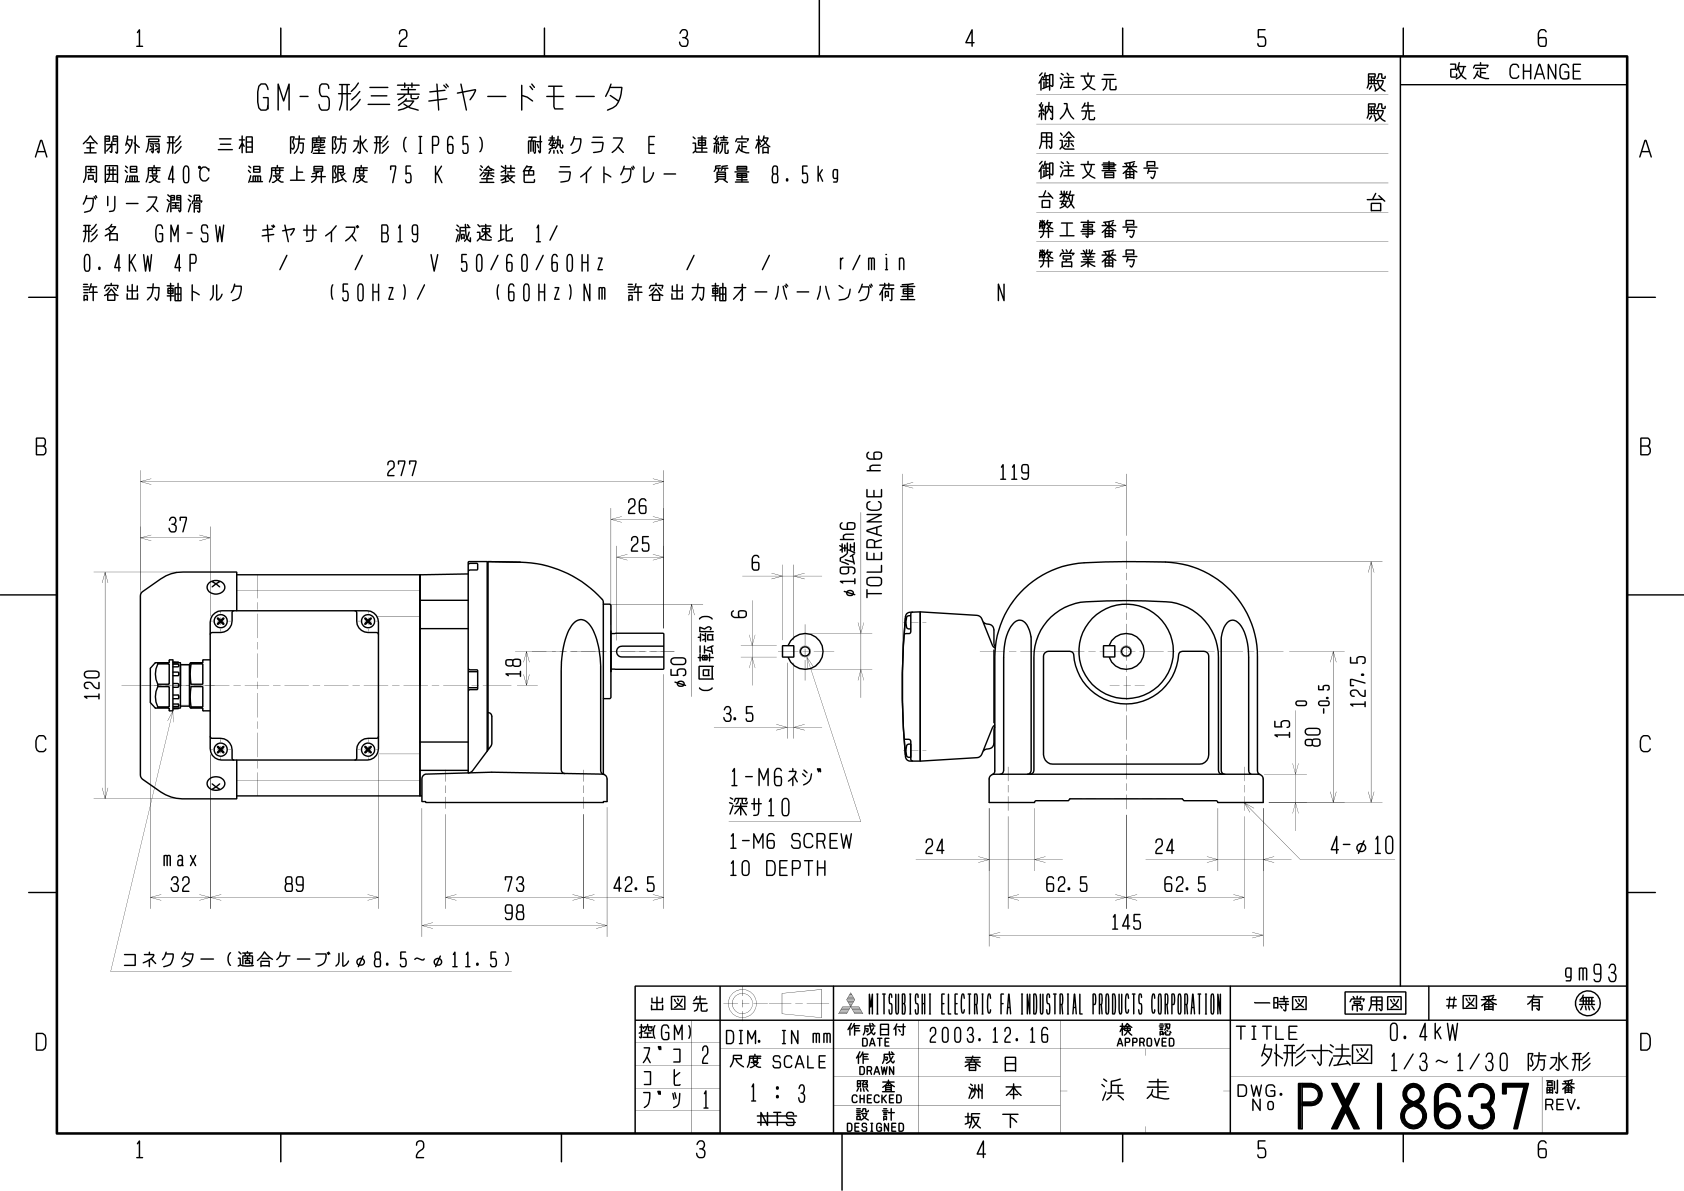GM_S_IP65＿三相_脚: (6, 5, 1666, 1178)
